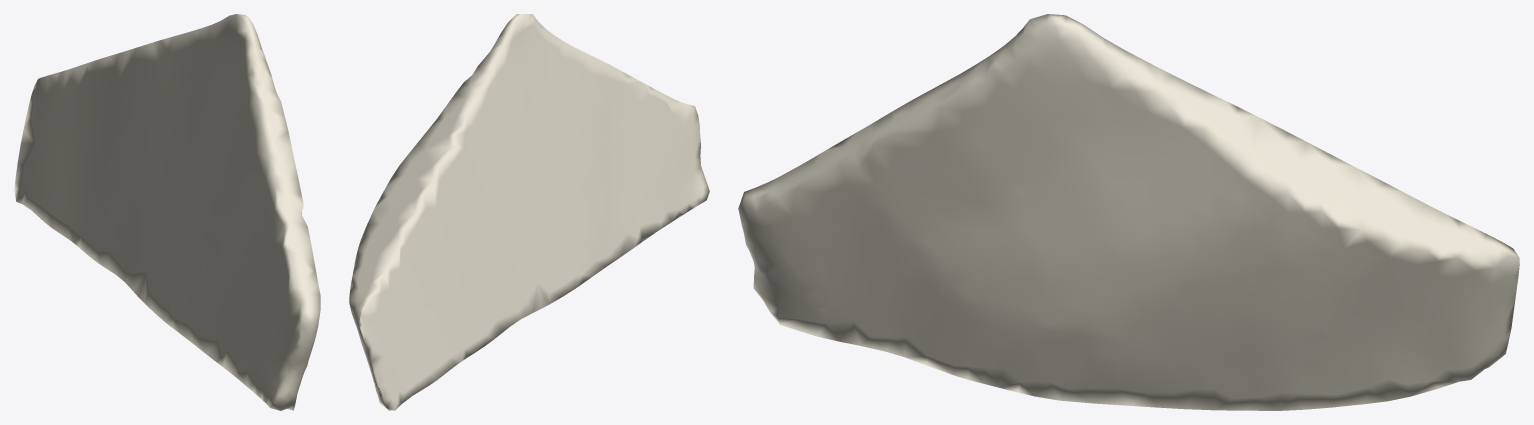
The model's file is fma318887_mm909.glb.
3 renders of one model, left to right at view 1: azimuth 30°, elevation 25°; view 2: azimuth 150°, elevation 25°; view 3: azimuth 270°, elevation 25°, orthographic. The views are drawn at different scales.
Visible parts, largest first — view 1: FMA318887_MM909; view 2: FMA318887_MM909; view 3: FMA318887_MM909.
Boxes of the visible parts, x1,y1,x2,y2 form: FMA318887_MM909: [14, 14, 320, 410]; FMA318887_MM909: [349, 14, 709, 410]; FMA318887_MM909: [738, 14, 1519, 410].
Bounding box in the file's own units: 0.00874 × 0.0192 × 0.0349.
